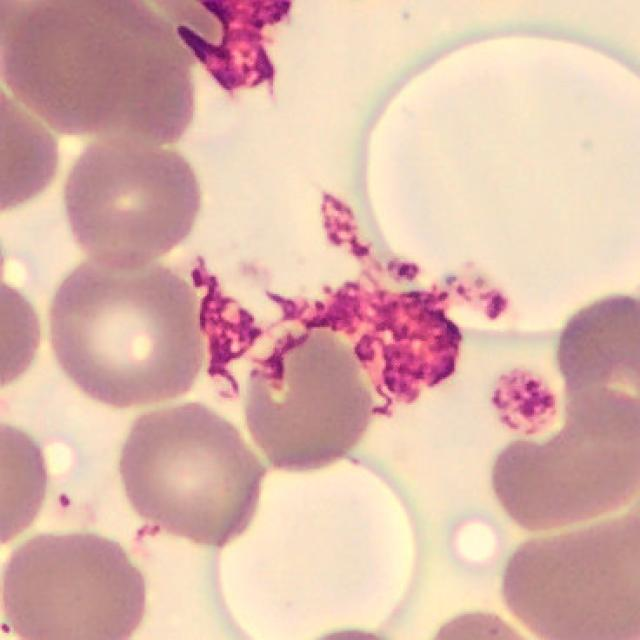Restos celulares: (189, 187, 538, 425)
